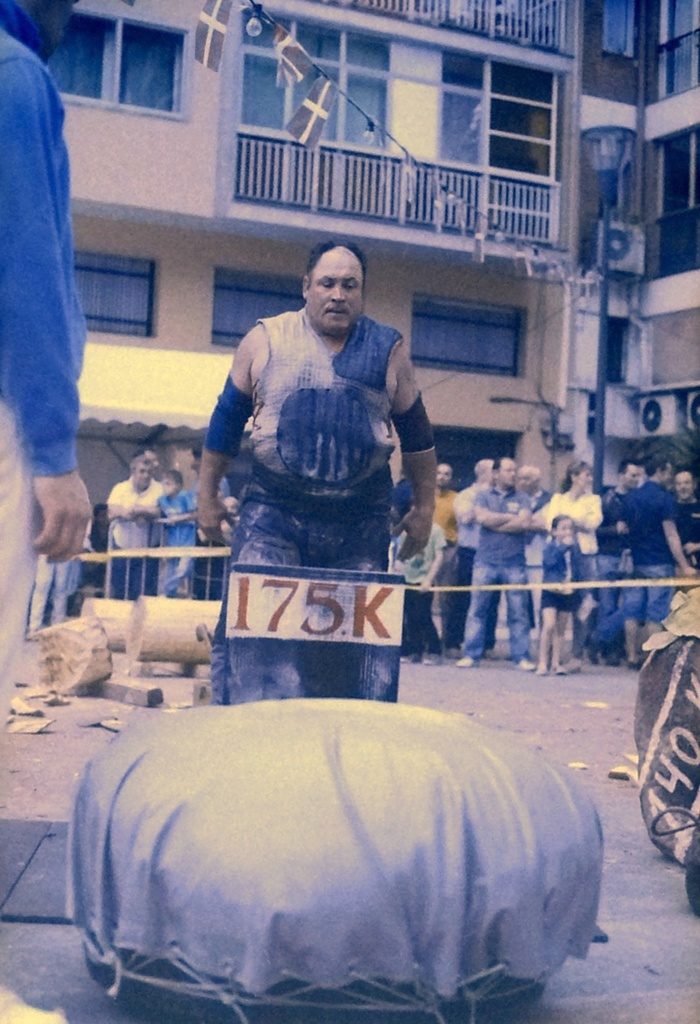Human_hand: (9, 459, 86, 562), (391, 512, 433, 566), (196, 498, 238, 545), (558, 535, 574, 549), (682, 541, 696, 556), (683, 569, 699, 580)
